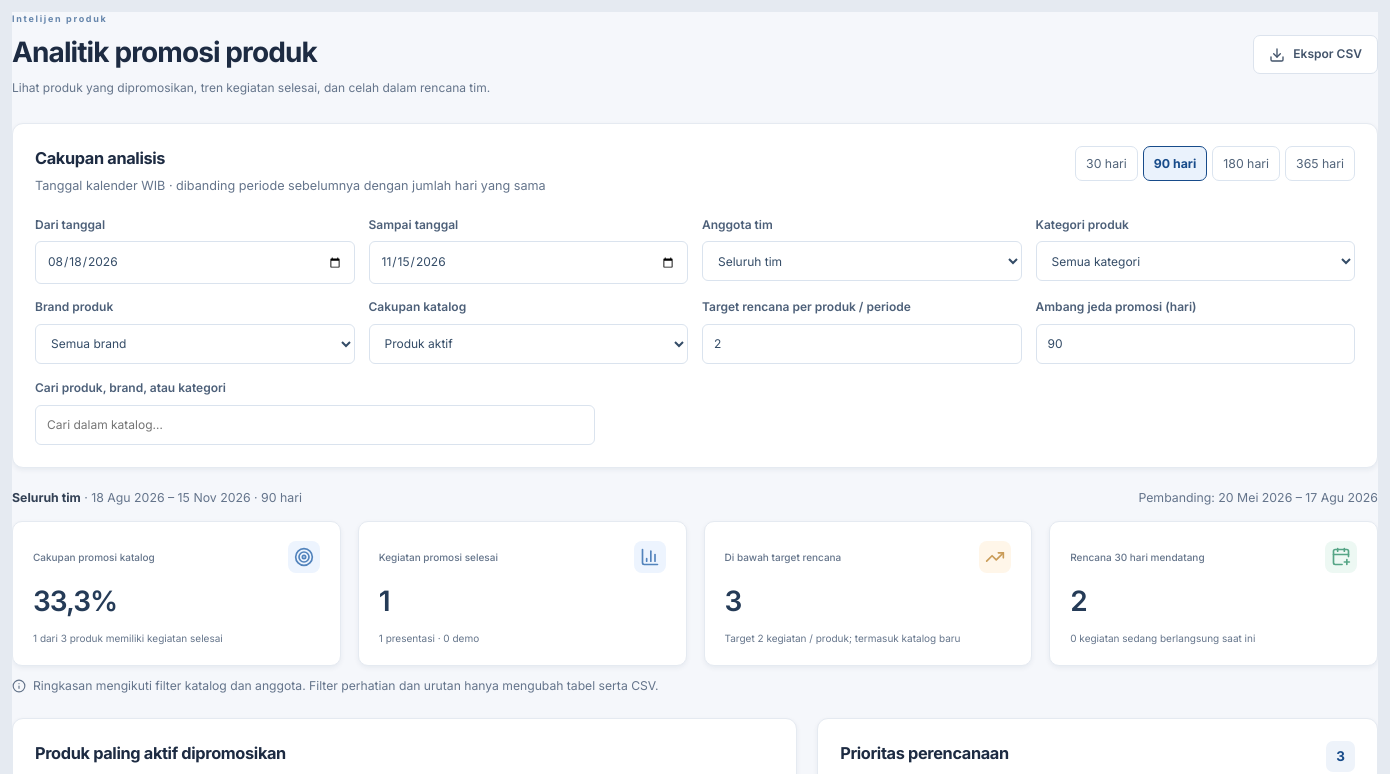
Scenario: product analytics decision flows › exports filtered zero rows with period, snapshot, scope and methodology metadata
Later steps or results of the test are not shown.
Select "MRI" in the dropdown labelled "Kategori produk" at (1195, 261), box x1=1036 y1=241 x2=1355 y2=281
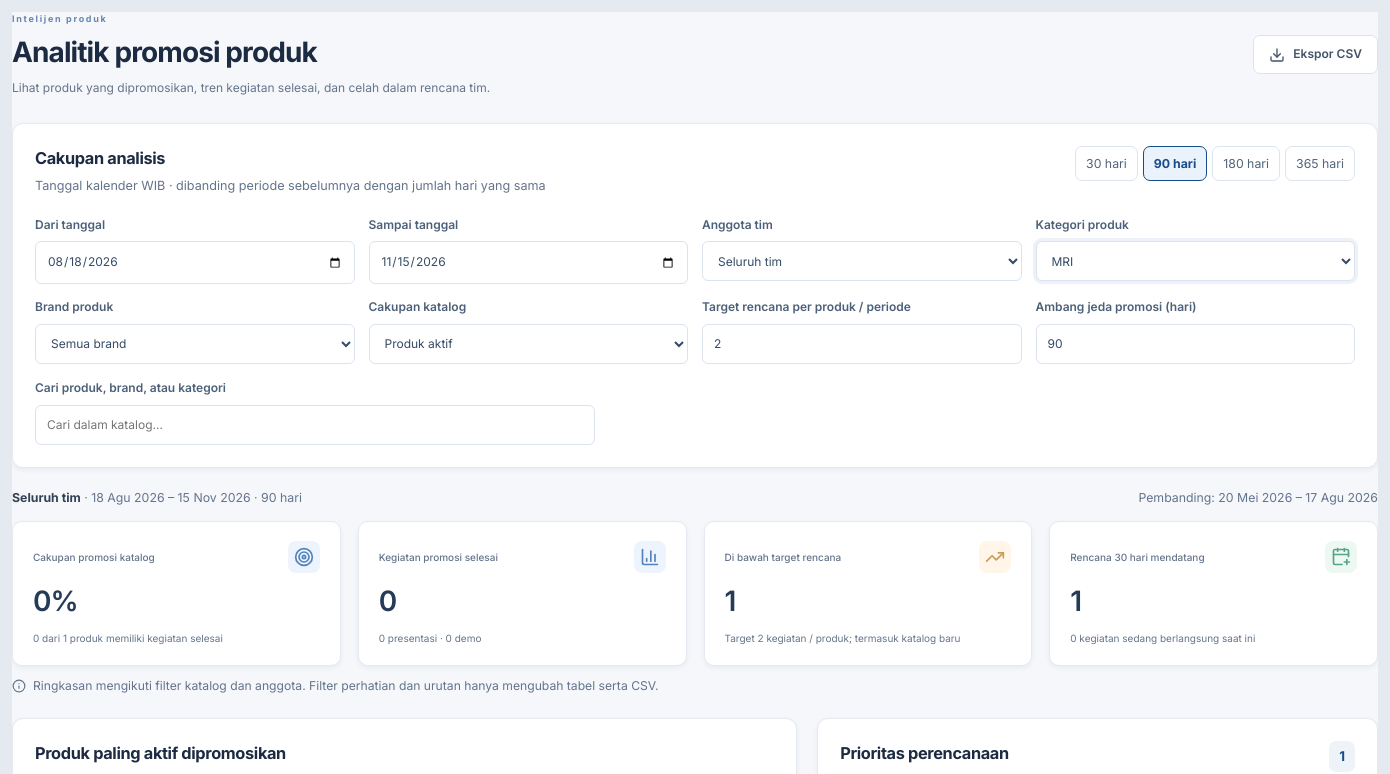
Check: the text "0 dari 1 produk memiliki kegiatan selesai" is shown, box x1=33 y1=632 x2=223 y2=644
